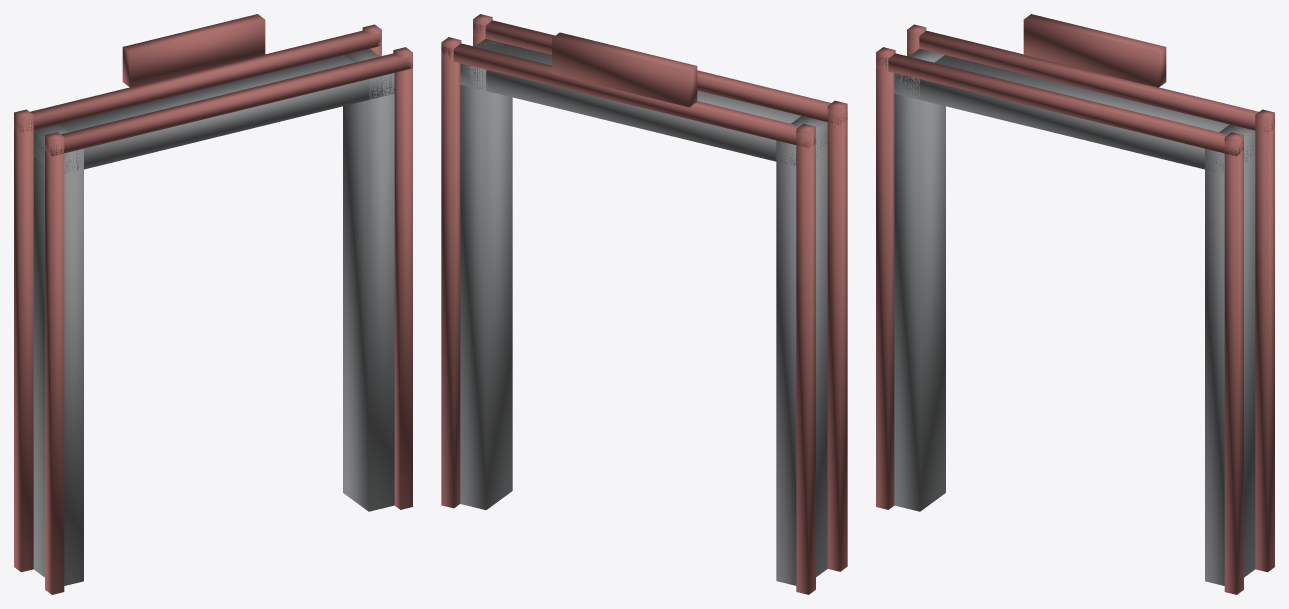
The model's file is doorway_emergency_exit_w152_h210_d24.glb.
The picture shows the model from 3 angles, left to right: view 1: azimuth 30°, elevation 25°; view 2: azimuth 150°, elevation 25°; view 3: azimuth 330°, elevation 25°; orthographic projection.
Parts seen in each view (by area): view 1: world; view 2: world; view 3: world.
Part boxes in pixels (x1,y1,x2,y2): world: (14, 14, 412, 594); world: (441, 14, 847, 594); world: (876, 14, 1274, 594).
Size of the model in its own units: 1.92 by 2.5 by 0.3908.
